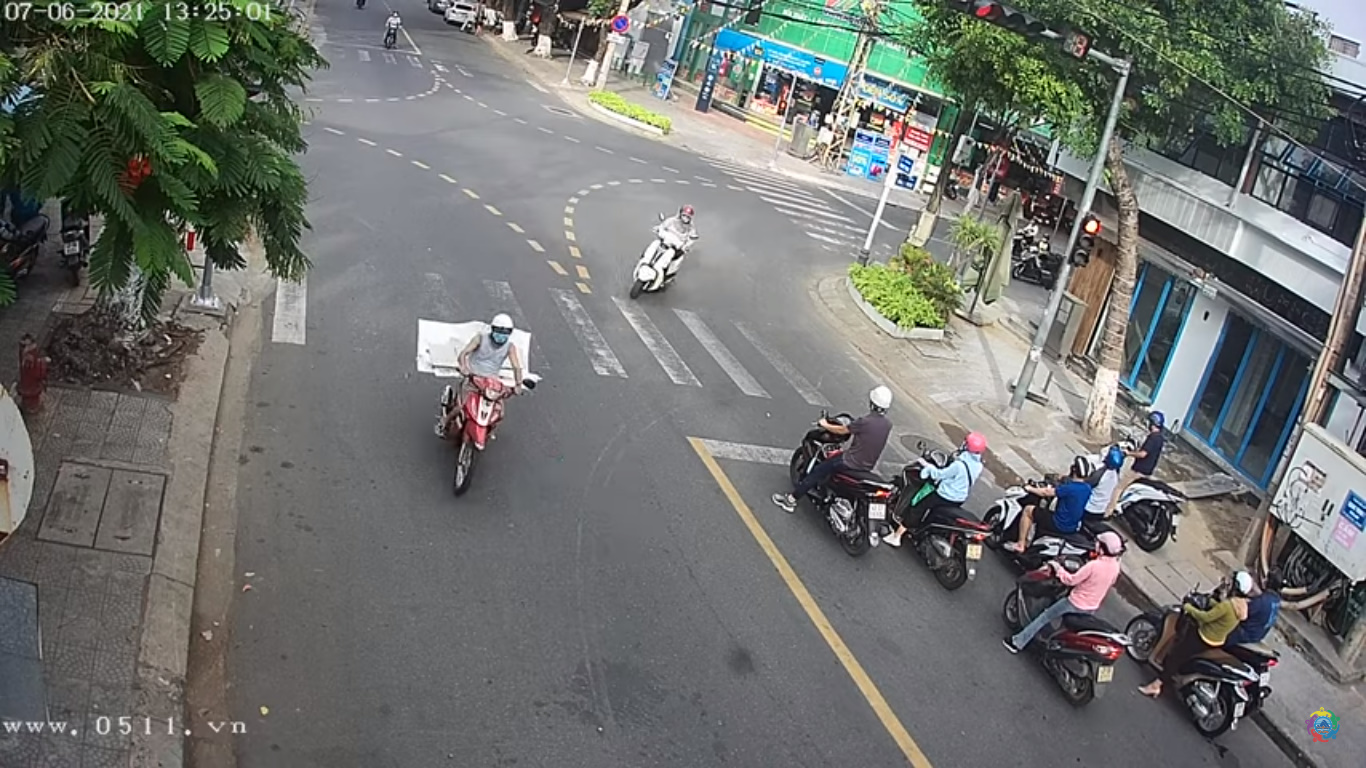motorbike: (421, 311, 542, 492)
